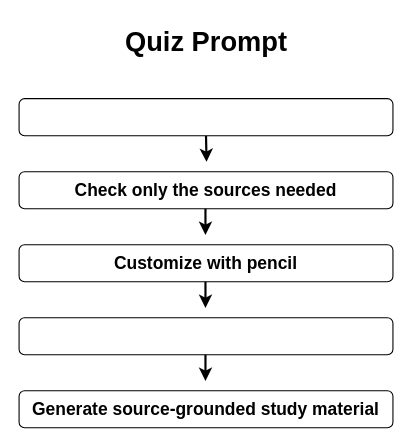
Some shapes in this 412 by 447 pixel diagram are drawn without their labels. Each missing label, with the box of its shape:
Choose Studio mode: (18, 317, 393, 355)
Sources available in notebook: (18, 98, 393, 136)
